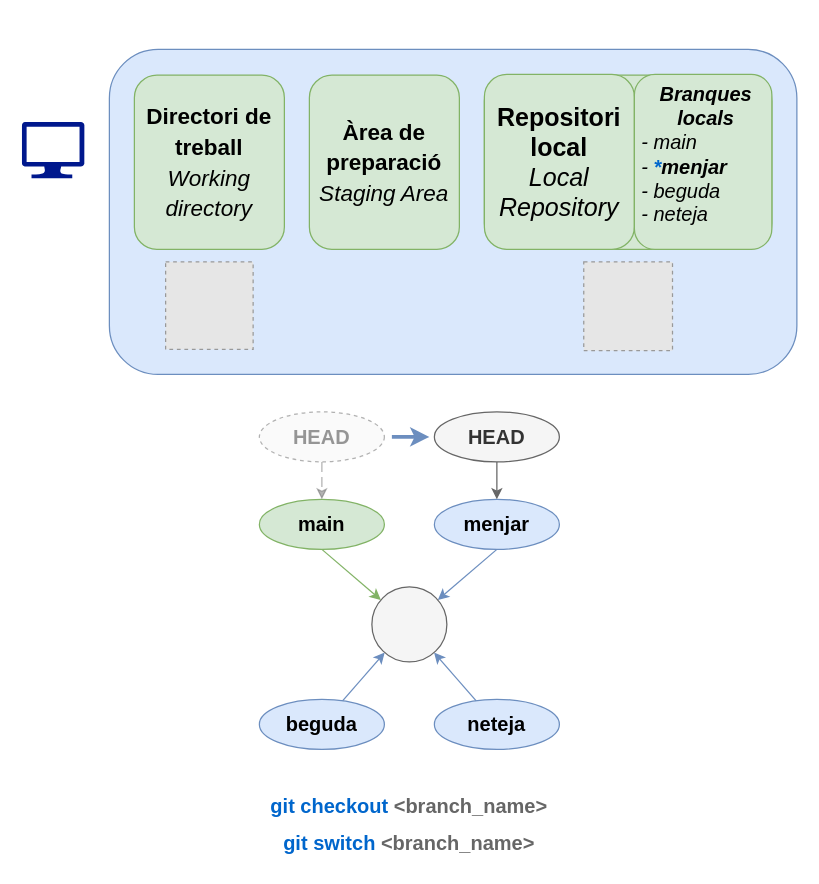
This 819x884 diagram has some shape labels left out. Grey dashed boxes stand in for pictures. The shapes that lost their labels are listed below. From the top down, each one's box as (x1, y1, x2, y2) in pixels, then its label:
(108, 48, 797, 374): Local - Entorn de desenvolupament
(371, 586, 447, 662): Commit inicial
